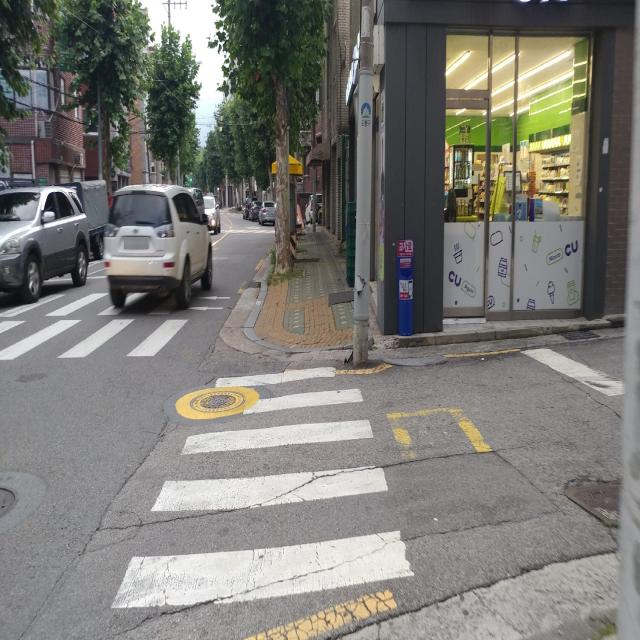횡단보도: (107, 362, 417, 612), (0, 294, 214, 355)
